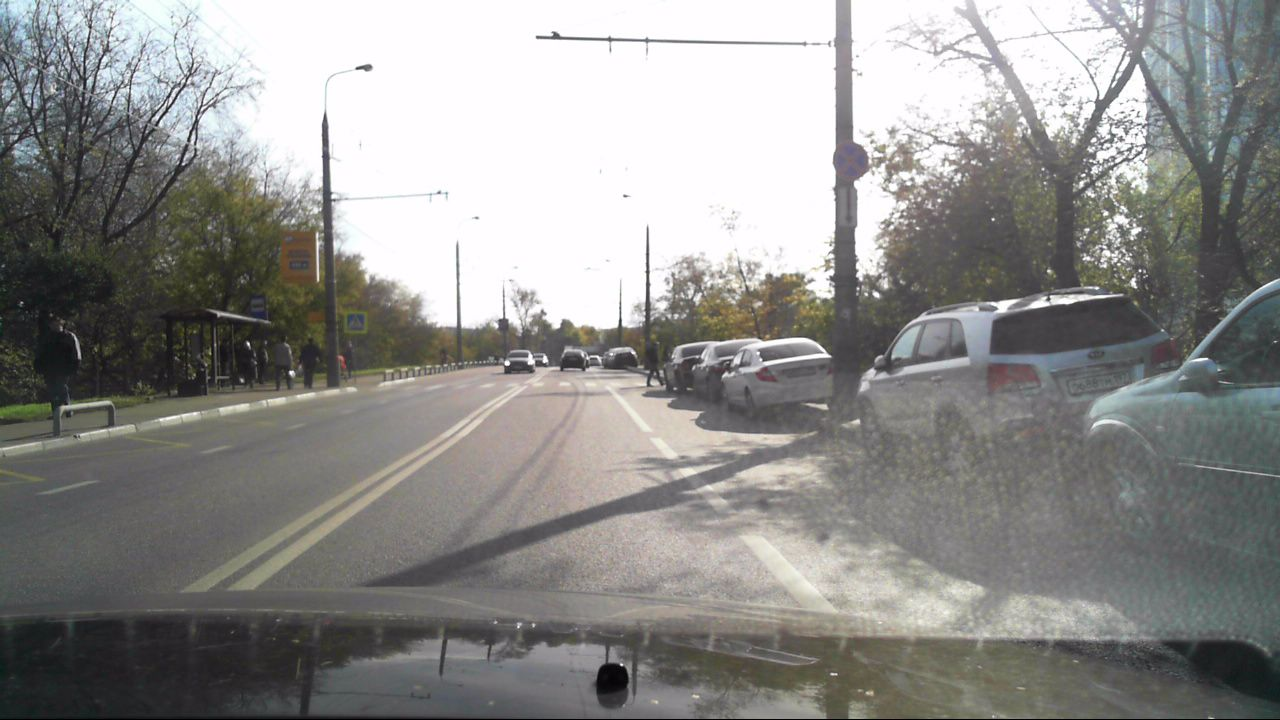No Parking: (830, 139, 870, 177)
